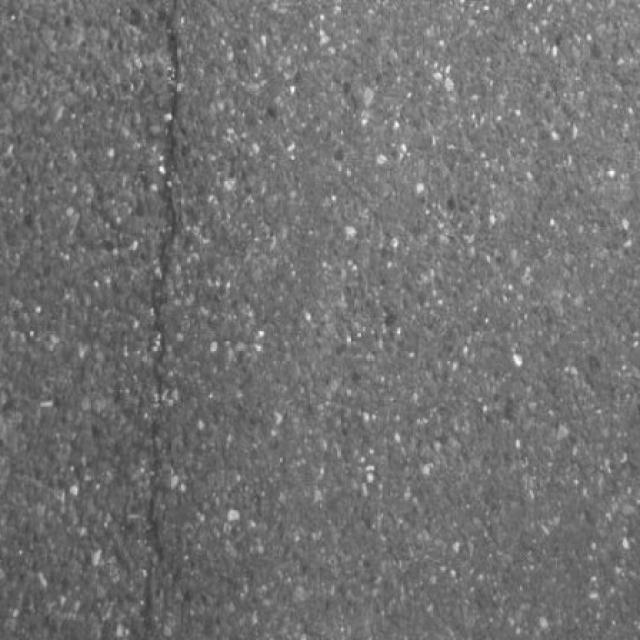Vertical Crack: (110, 0, 181, 633)
